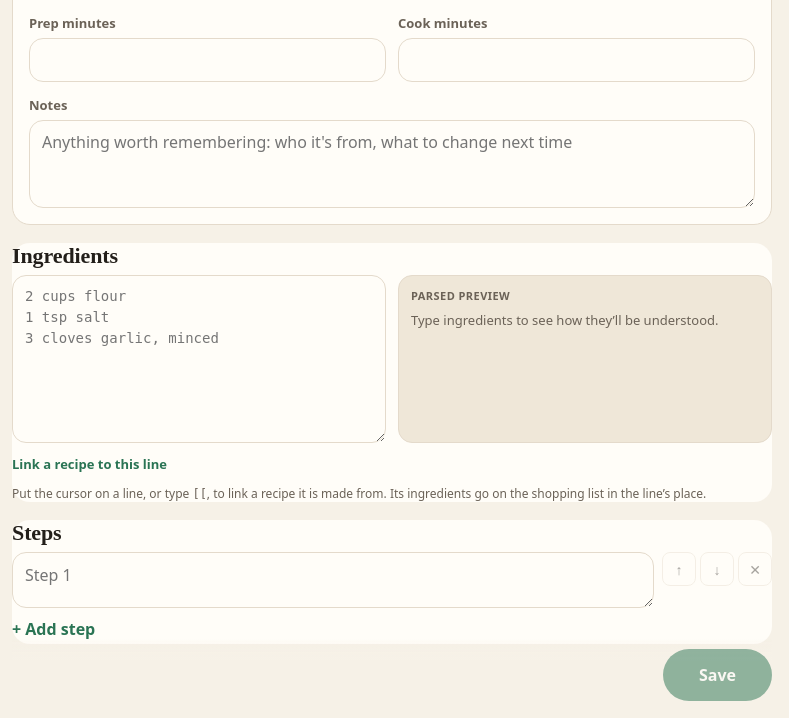
Test: RecipeEdit recipe links › flags a token that names no recipe
(page scrolled)
Type "1 dough [ [Nope]]" into the text box named "Ingredients, one per line" at (199, 359), box [12,275,386,443]
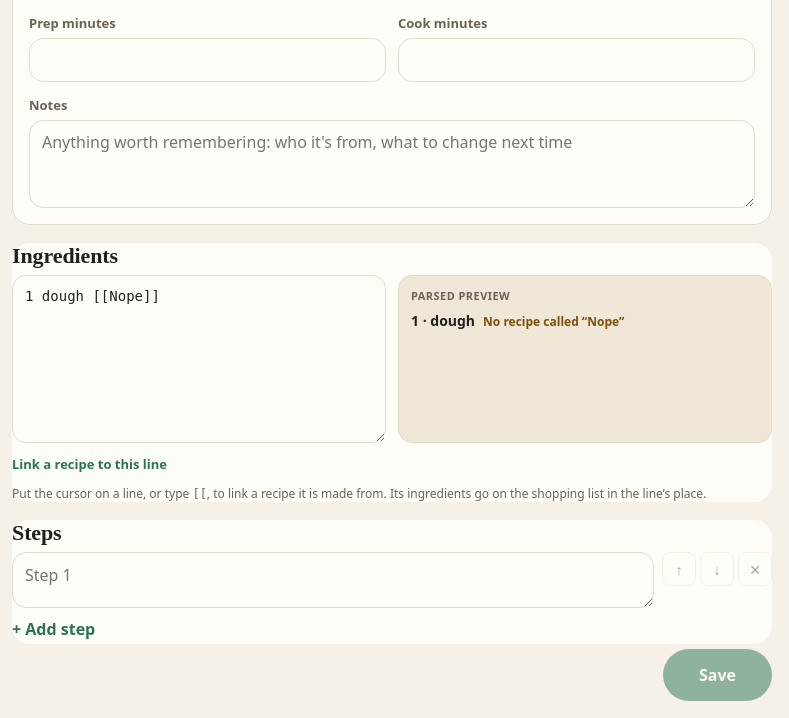
Check: the text "No recipe called “Nope”" is shown, box [483,313,624,330]
